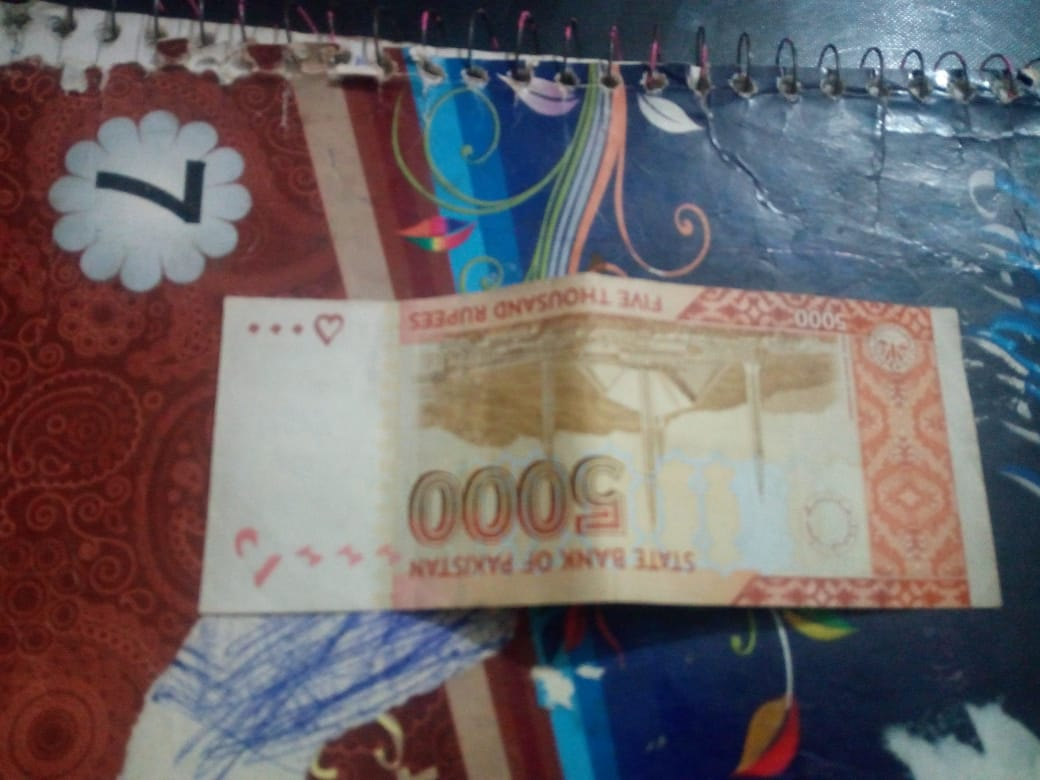5000 rupee: (218, 267, 1008, 639)
